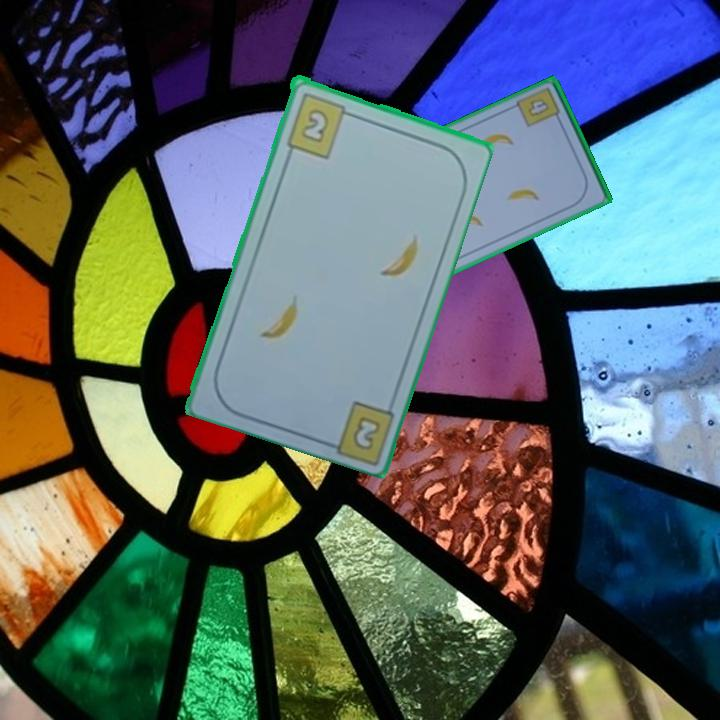2b: (282, 88, 357, 160), (349, 412, 384, 453)
4b: (524, 95, 552, 120)
